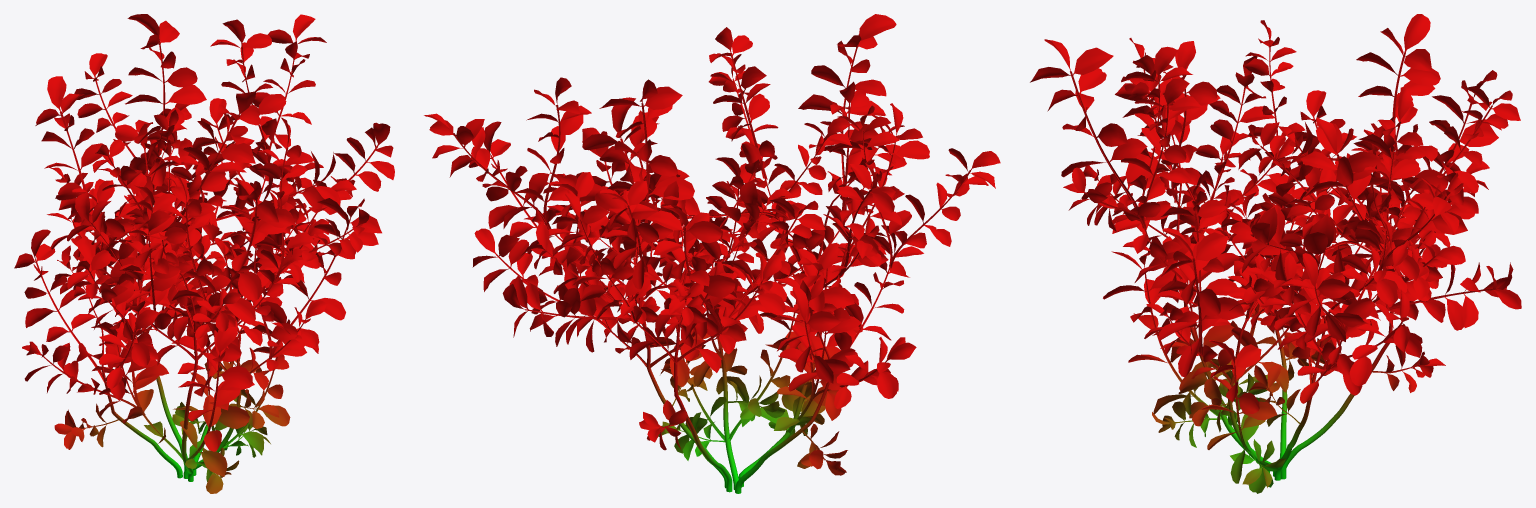
File: Var9_LOD0.fbx
The picture shows the model from 3 angles, left to right: view 1: azimuth 30°, elevation 25°; view 2: azimuth 150°, elevation 25°; view 3: azimuth 270°, elevation 25°; orthographic projection. The views are drawn at different scales.
Visible parts, largest first — view 1: _sk6y_Var9_LOD0; view 2: _sk6y_Var9_LOD0; view 3: _sk6y_Var9_LOD0.
Part boxes in pixels (bbox=[...]): _sk6y_Var9_LOD0: bbox=[14, 14, 394, 493]; _sk6y_Var9_LOD0: bbox=[424, 14, 1000, 493]; _sk6y_Var9_LOD0: bbox=[1030, 14, 1521, 493].
Size of the model in its own units: 157 by 158 by 150.
